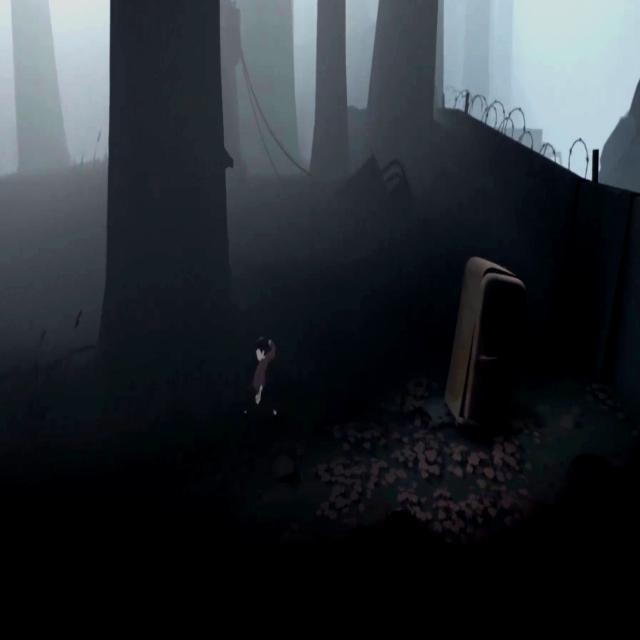boy: (242, 336, 275, 420)
